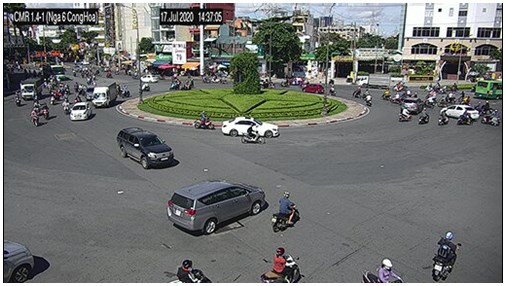xe_buyt: (476, 79, 501, 101)
xe_hoi: (166, 180, 266, 233), (116, 127, 174, 170), (220, 118, 278, 139), (440, 105, 479, 119), (70, 102, 91, 121), (402, 98, 423, 113), (302, 84, 324, 94), (140, 73, 159, 84)
xe_may: (431, 230, 461, 282), (260, 247, 301, 282), (272, 191, 300, 233), (362, 258, 403, 283), (175, 258, 212, 282), (240, 124, 265, 145), (194, 110, 215, 131), (480, 108, 500, 125), (456, 109, 472, 126), (437, 109, 450, 126), (398, 108, 413, 122), (418, 108, 430, 125), (442, 91, 457, 103), (61, 97, 70, 115), (168, 79, 181, 91), (120, 84, 131, 98), (31, 108, 39, 127), (13, 92, 22, 107), (390, 92, 401, 104), (394, 79, 407, 89), (381, 88, 390, 102), (352, 87, 363, 98), (424, 96, 435, 106), (424, 81, 434, 92), (140, 82, 151, 91), (182, 80, 191, 91), (366, 92, 373, 106), (50, 90, 56, 106), (43, 102, 48, 121), (328, 85, 337, 95), (210, 74, 219, 84), (106, 68, 113, 79)
xe_tai: (92, 82, 118, 109), (356, 73, 390, 88), (21, 78, 43, 100)
